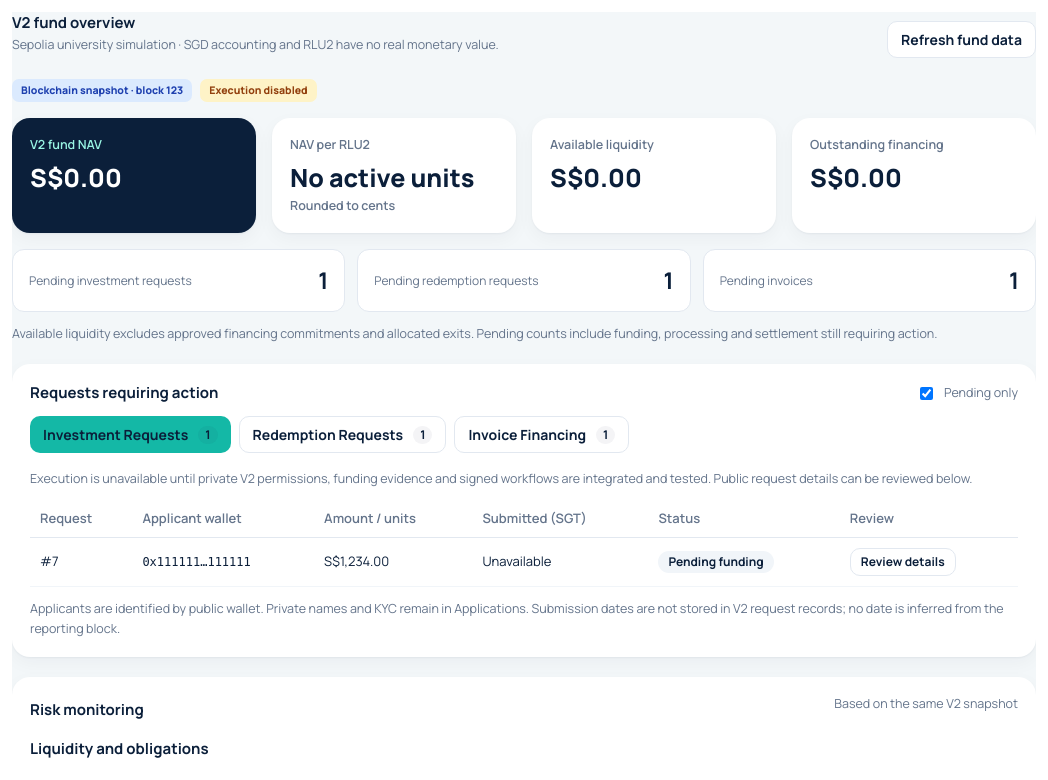
Scenario: manager operations dashboard › reviews actual snapshot rows by type and keeps financial execution disabled
This screenshot has width=1048, height=780.
Expected: the button "Investment Requests 1" is shown, [30, 416, 230, 453]
Click the button with aria-label "Review investment request 7".
click(903, 562)  # box [850, 548, 956, 576]
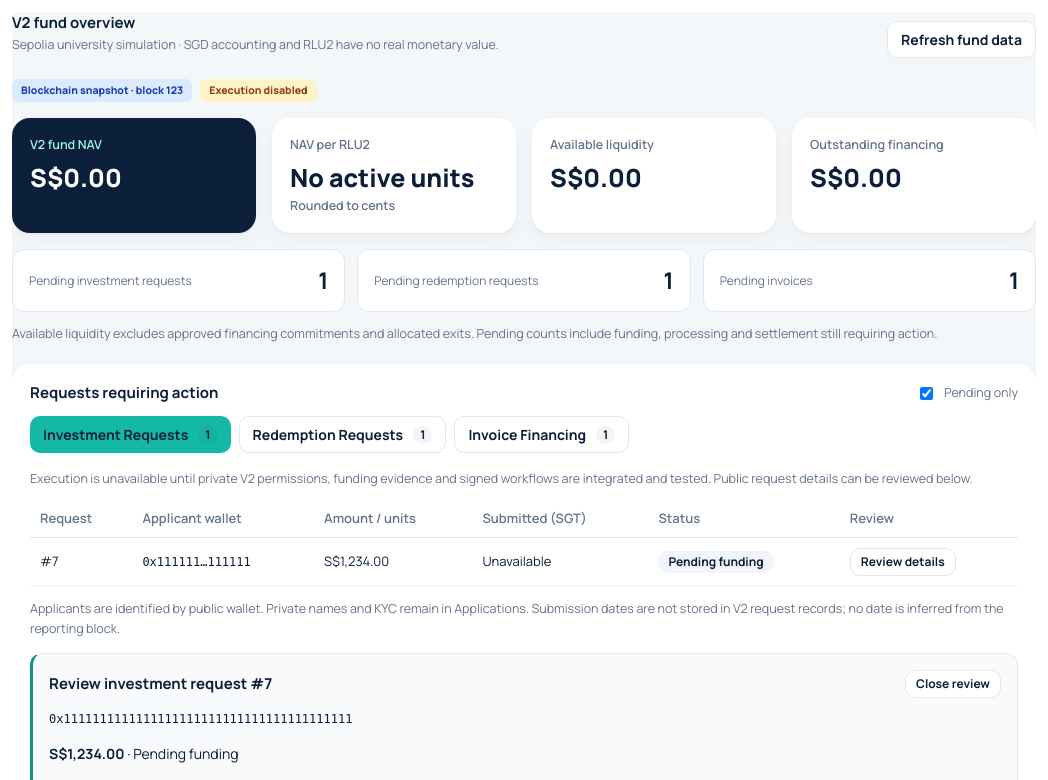
Click the checkbox labelled "Pending only".
click(926, 393)  # box [920, 386, 933, 400]
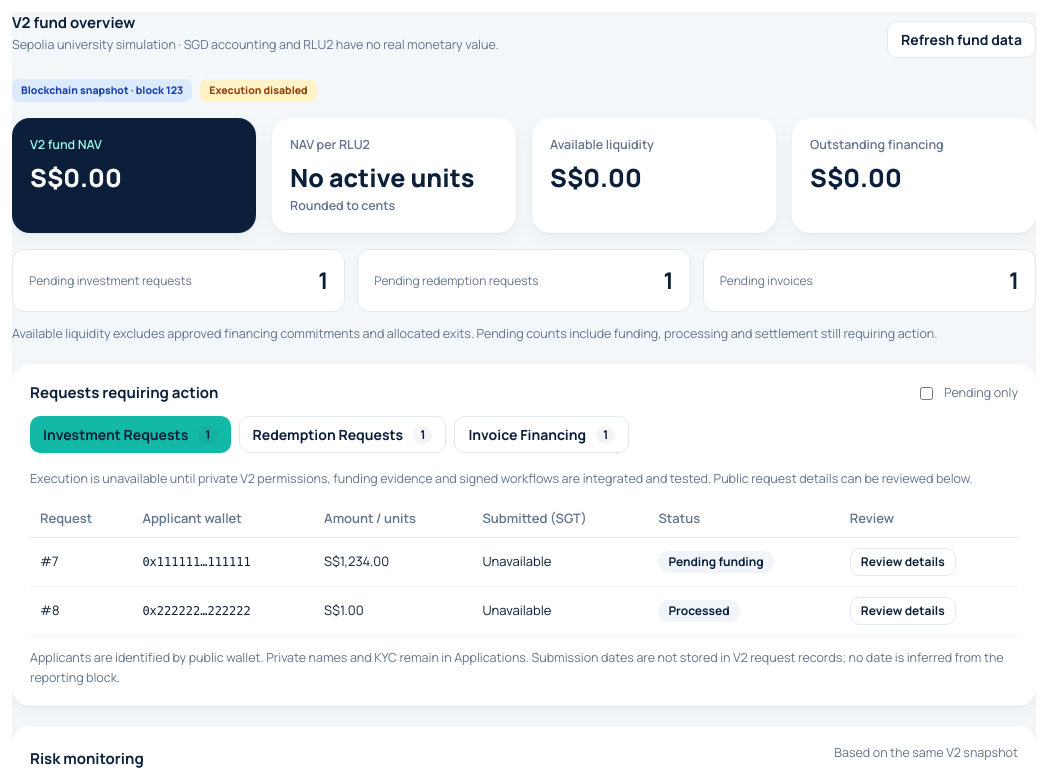
Now the button with aria-label "Review investment request 8" is shown, box [850, 597, 956, 625]
Click the button "Redemption Requests 1".
click(342, 435)  # box [238, 416, 446, 453]
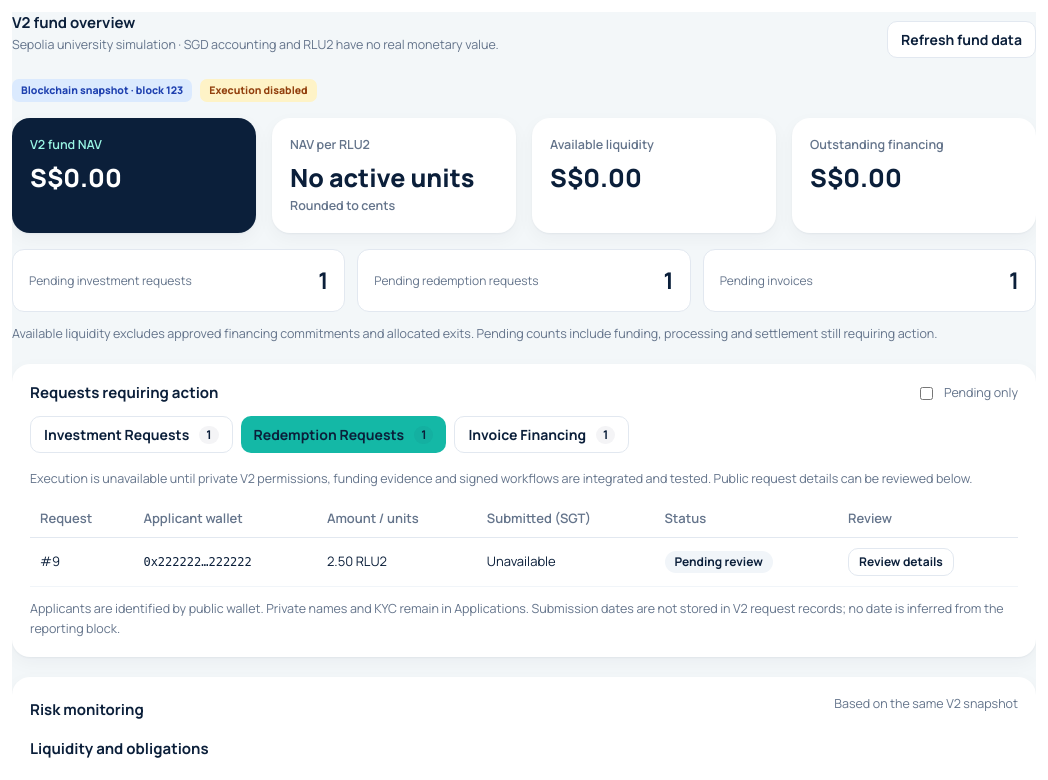
Now the text "2.50 RLU2" is shown, box [317, 538, 477, 586]
Click the button "Invoice Financing 1".
click(542, 435)  # box [454, 416, 629, 453]
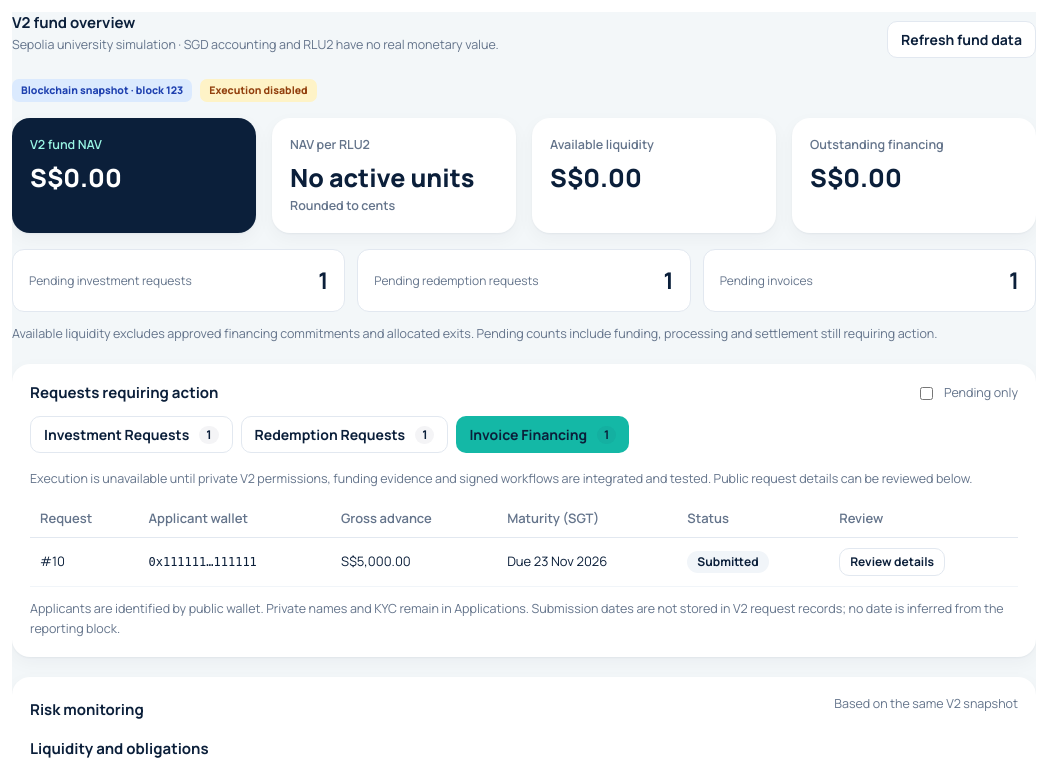
Expected: the text "Submission dates are not stored" is shown, [30, 600, 1004, 637]
Now the column heading "Maturity (SGT)" is shown, box [497, 501, 677, 537]
Now the button with aria-label "Review invoice request 10" is shown, box [839, 548, 945, 576]
